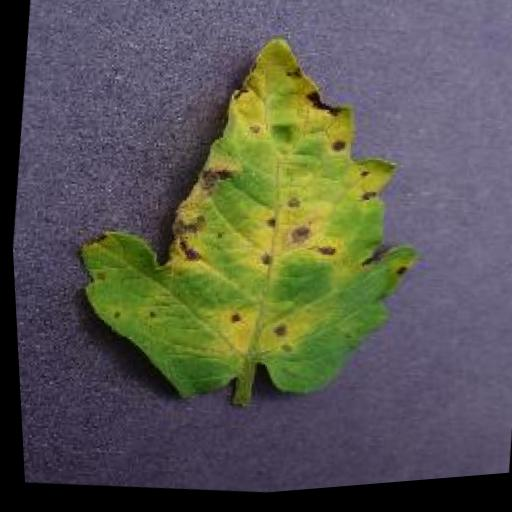Septoria: (48, 6, 441, 436)
